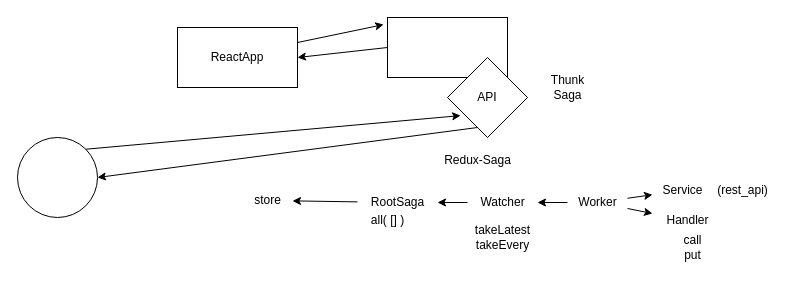
Image size: 795x285. Some labels were removed from this diagram. Here are the shapes that lost their labels. From the top down, the centre of each, then its label:
At (447,47): "Redux".
At (57,177): "Server".
